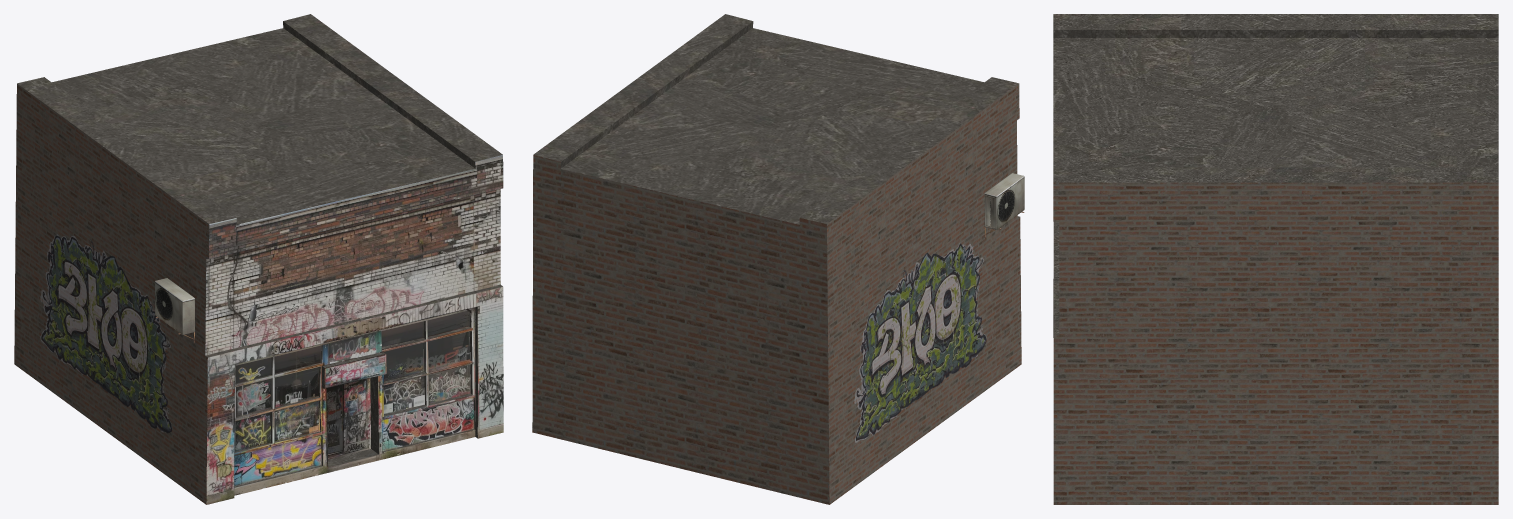
File: ghetto_hood_graffiti_detroit_building_1.glb
3 renders of one model, left to right at view 1: azimuth 30°, elevation 25°; view 2: azimuth 150°, elevation 25°; view 3: azimuth 270°, elevation 25°, orthographic. The views are drawn at different scales.
Parts seen in each view (by area): view 1: Building4_Building1_0, Building4_Concrete_0, Building4_Brick_0, Building4_Graffiti_0, Building4_ACUnit_0; view 2: Building4_Brick_0, Building4_Concrete_0, Building4_Graffiti_0, Building4_ACUnit_0; view 3: Building4_Brick_0, Building4_Concrete_0.
Part boxes in pixels (x1,y1,x2,y2): Building4_Building1_0: (205,155,503,504); Building4_Concrete_0: (17,14,502,502); Building4_Brick_0: (14,83,503,504); Building4_Graffiti_0: (40,234,171,432); Building4_ACUnit_0: (155,278,194,334); Building4_Brick_0: (532,83,1021,504); Building4_Concrete_0: (533,14,1019,224); Building4_Graffiti_0: (854,243,986,442); Building4_ACUnit_0: (984,173,1024,229); Building4_Brick_0: (1053,182,1498,504); Building4_Concrete_0: (1053,14,1498,337).
Bounding box in the file's own units: 8.59 × 7.37 × 9.16.
6 materials, 6 textured.
